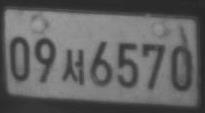0: (8, 36, 32, 80), (171, 45, 192, 90)
5: (116, 42, 140, 88)
6: (89, 40, 113, 87)
7: (141, 42, 167, 90)
9: (34, 36, 56, 83)
서: (62, 48, 86, 86)
